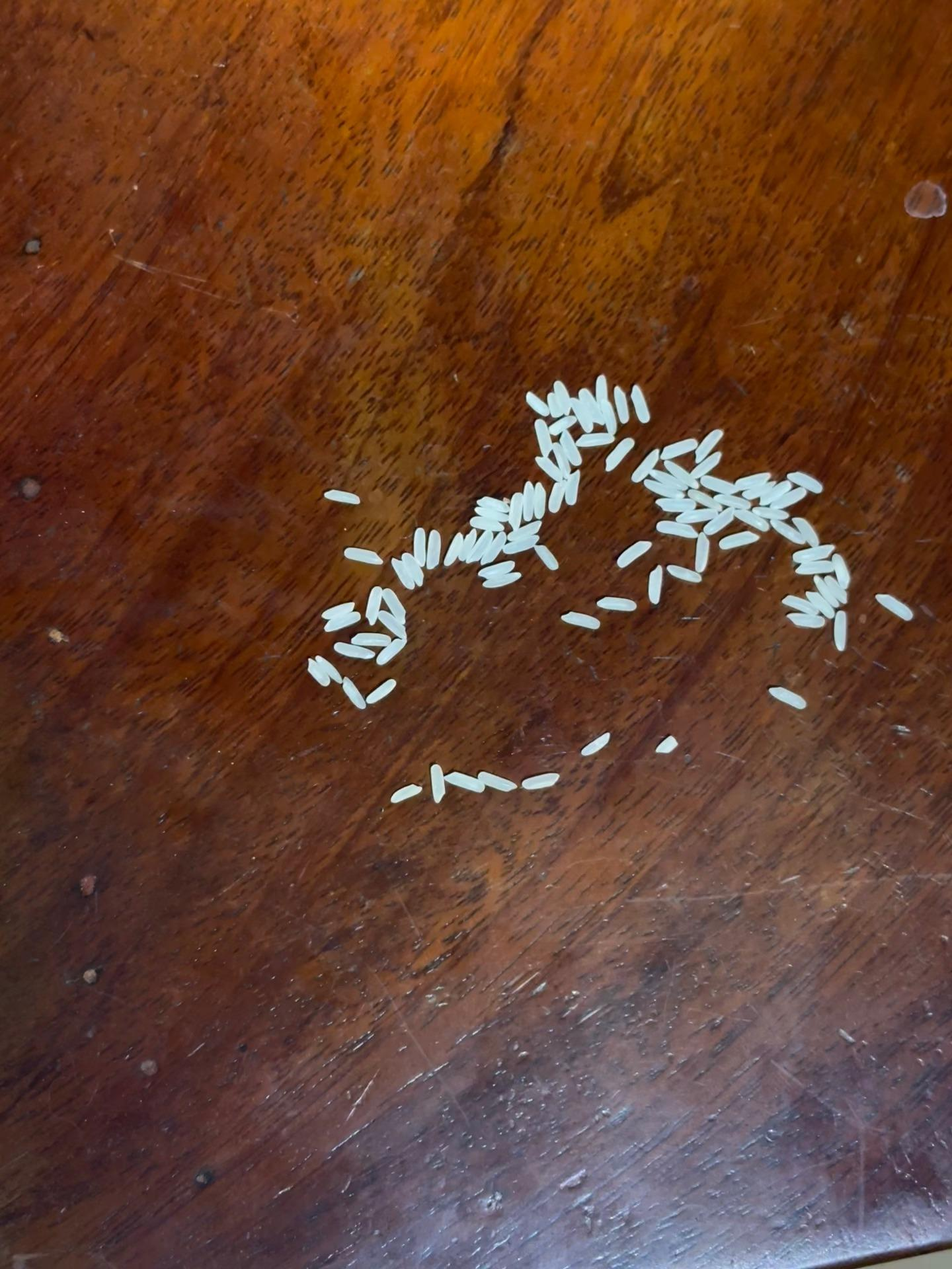Rice-th-y-nh: (694, 429, 724, 464), (631, 449, 660, 484), (605, 438, 635, 471), (876, 594, 913, 620), (579, 389, 605, 426), (616, 541, 652, 567), (663, 460, 696, 488), (704, 507, 735, 536), (467, 531, 494, 564), (690, 452, 722, 479), (771, 519, 804, 545), (445, 772, 485, 793), (644, 479, 684, 500), (769, 687, 807, 709), (383, 589, 406, 625), (481, 532, 506, 565), (478, 771, 517, 792), (378, 611, 407, 639), (376, 638, 406, 665), (793, 517, 820, 547), (813, 576, 839, 607), (787, 471, 822, 494), (734, 509, 770, 531), (806, 591, 834, 619), (771, 488, 806, 510), (560, 430, 582, 465), (342, 677, 366, 709), (760, 481, 792, 505), (783, 595, 819, 616), (651, 469, 687, 490), (316, 655, 342, 684), (367, 679, 397, 704), (688, 489, 722, 511), (571, 399, 593, 433), (391, 559, 415, 590), (631, 385, 650, 424), (334, 642, 375, 660), (794, 544, 835, 562), (402, 553, 424, 586), (325, 612, 361, 632), (503, 535, 539, 555), (661, 439, 697, 459), (700, 475, 735, 495), (509, 521, 542, 542), (581, 733, 611, 756), (657, 521, 697, 538), (552, 443, 572, 477), (535, 456, 562, 481), (478, 561, 515, 579), (832, 554, 851, 589), (483, 572, 522, 589), (677, 508, 718, 524), (824, 576, 848, 603), (345, 547, 383, 564), (562, 612, 600, 629), (307, 659, 330, 687), (458, 529, 478, 561), (715, 494, 752, 511), (720, 532, 757, 549), (535, 420, 552, 457), (523, 773, 560, 790), (429, 765, 446, 802), (366, 586, 382, 625), (667, 565, 701, 583), (734, 472, 770, 489), (564, 470, 581, 506), (508, 493, 524, 531), (655, 498, 695, 513), (548, 481, 566, 514), (787, 613, 824, 629), (412, 528, 427, 567), (445, 534, 463, 566), (532, 483, 548, 519), (535, 545, 558, 570), (576, 432, 614, 447), (321, 602, 354, 619), (600, 401, 617, 434), (390, 785, 421, 803), (796, 560, 833, 575), (648, 566, 663, 603), (426, 531, 441, 568), (526, 392, 549, 416), (598, 597, 637, 611), (695, 534, 709, 573), (477, 496, 509, 513), (753, 506, 789, 521), (614, 387, 629, 423), (470, 516, 503, 532), (549, 416, 575, 436), (351, 633, 391, 646), (834, 612, 847, 652), (554, 382, 571, 412), (743, 482, 771, 500), (325, 490, 360, 504), (523, 482, 535, 519), (474, 507, 505, 521), (547, 393, 562, 417), (655, 737, 677, 753), (595, 376, 607, 402)
